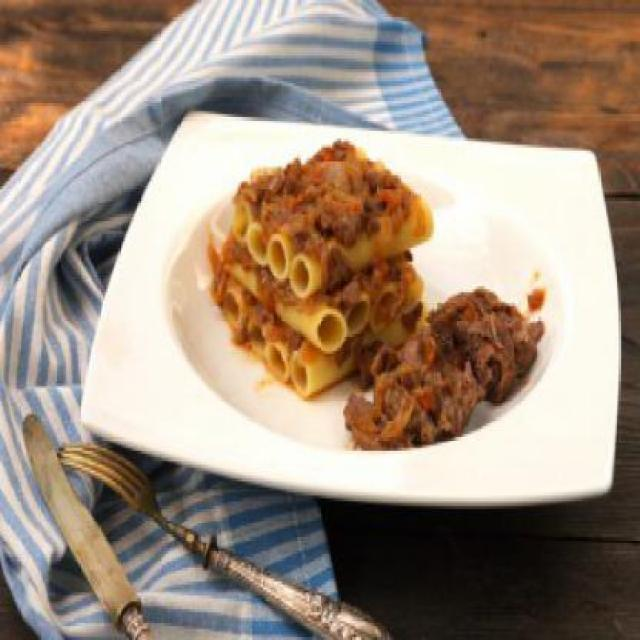Pasta al ragu: (185, 103, 568, 468)
